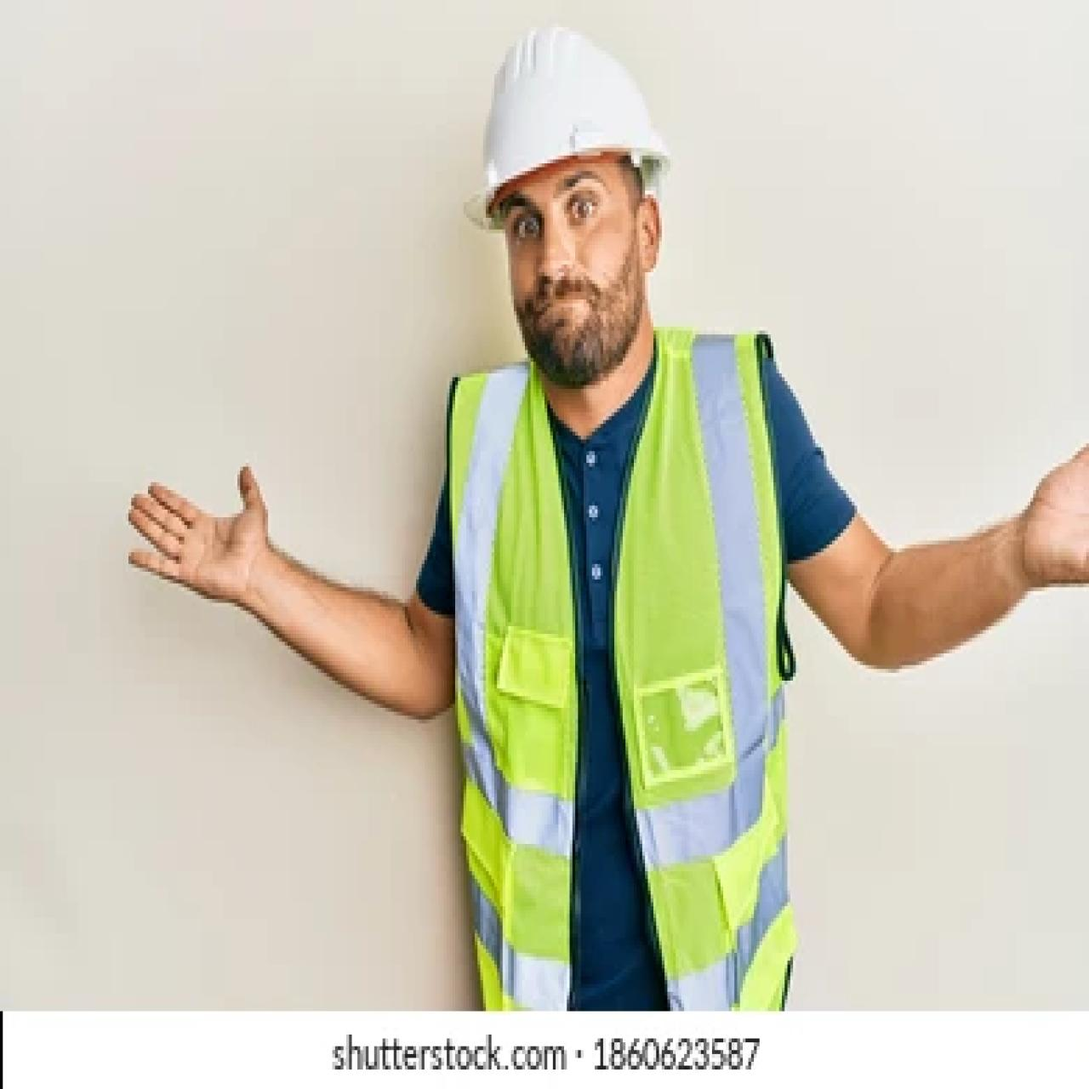Person: (67, 4, 1083, 1013)
Safety_Vest: (438, 307, 820, 1016)
